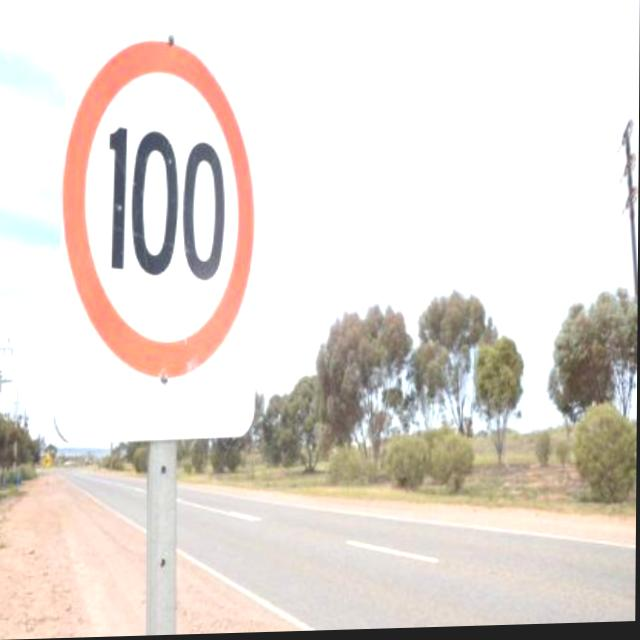limit100: (48, 31, 261, 391)
